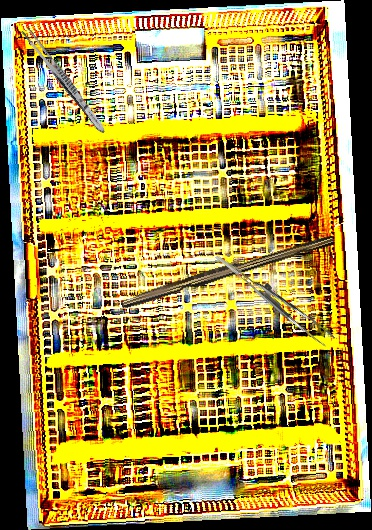Dressing Forceps: (18, 25, 110, 136)
Scalpel Handle: (118, 228, 336, 313)
Tissue Forceps: (215, 237, 335, 358)
